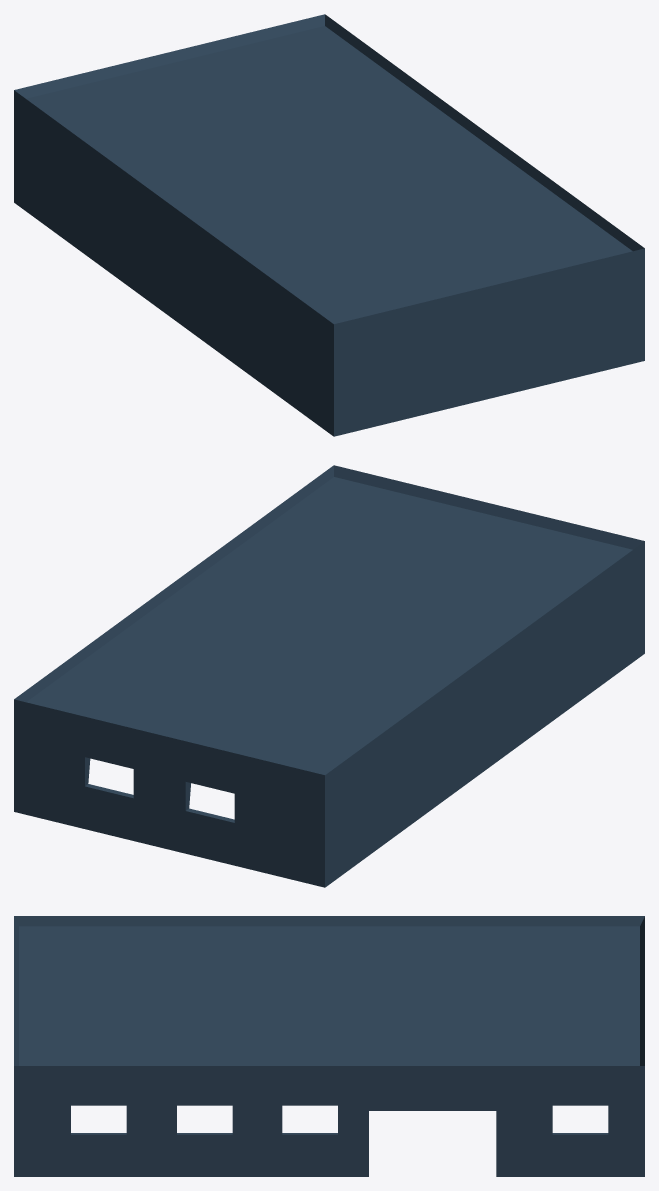
Rendered from house03.fbx.
3 views of the same model, one above another, from view 1: azimuth 30°, elevation 25°; view 2: azimuth 150°, elevation 25°; view 3: azimuth 270°, elevation 25° (orthographic).
Visible parts, largest first — view 1: Box007; view 2: Box007; view 3: Box007.
Boxes of the visible parts, box(x1,y1,x2,y2) form: Box007: box(14, 14, 644, 436); Box007: box(14, 465, 644, 887); Box007: box(14, 916, 644, 1176).
Bounding box in the file's own units: 14.09 × 4.87 × 25.1.
